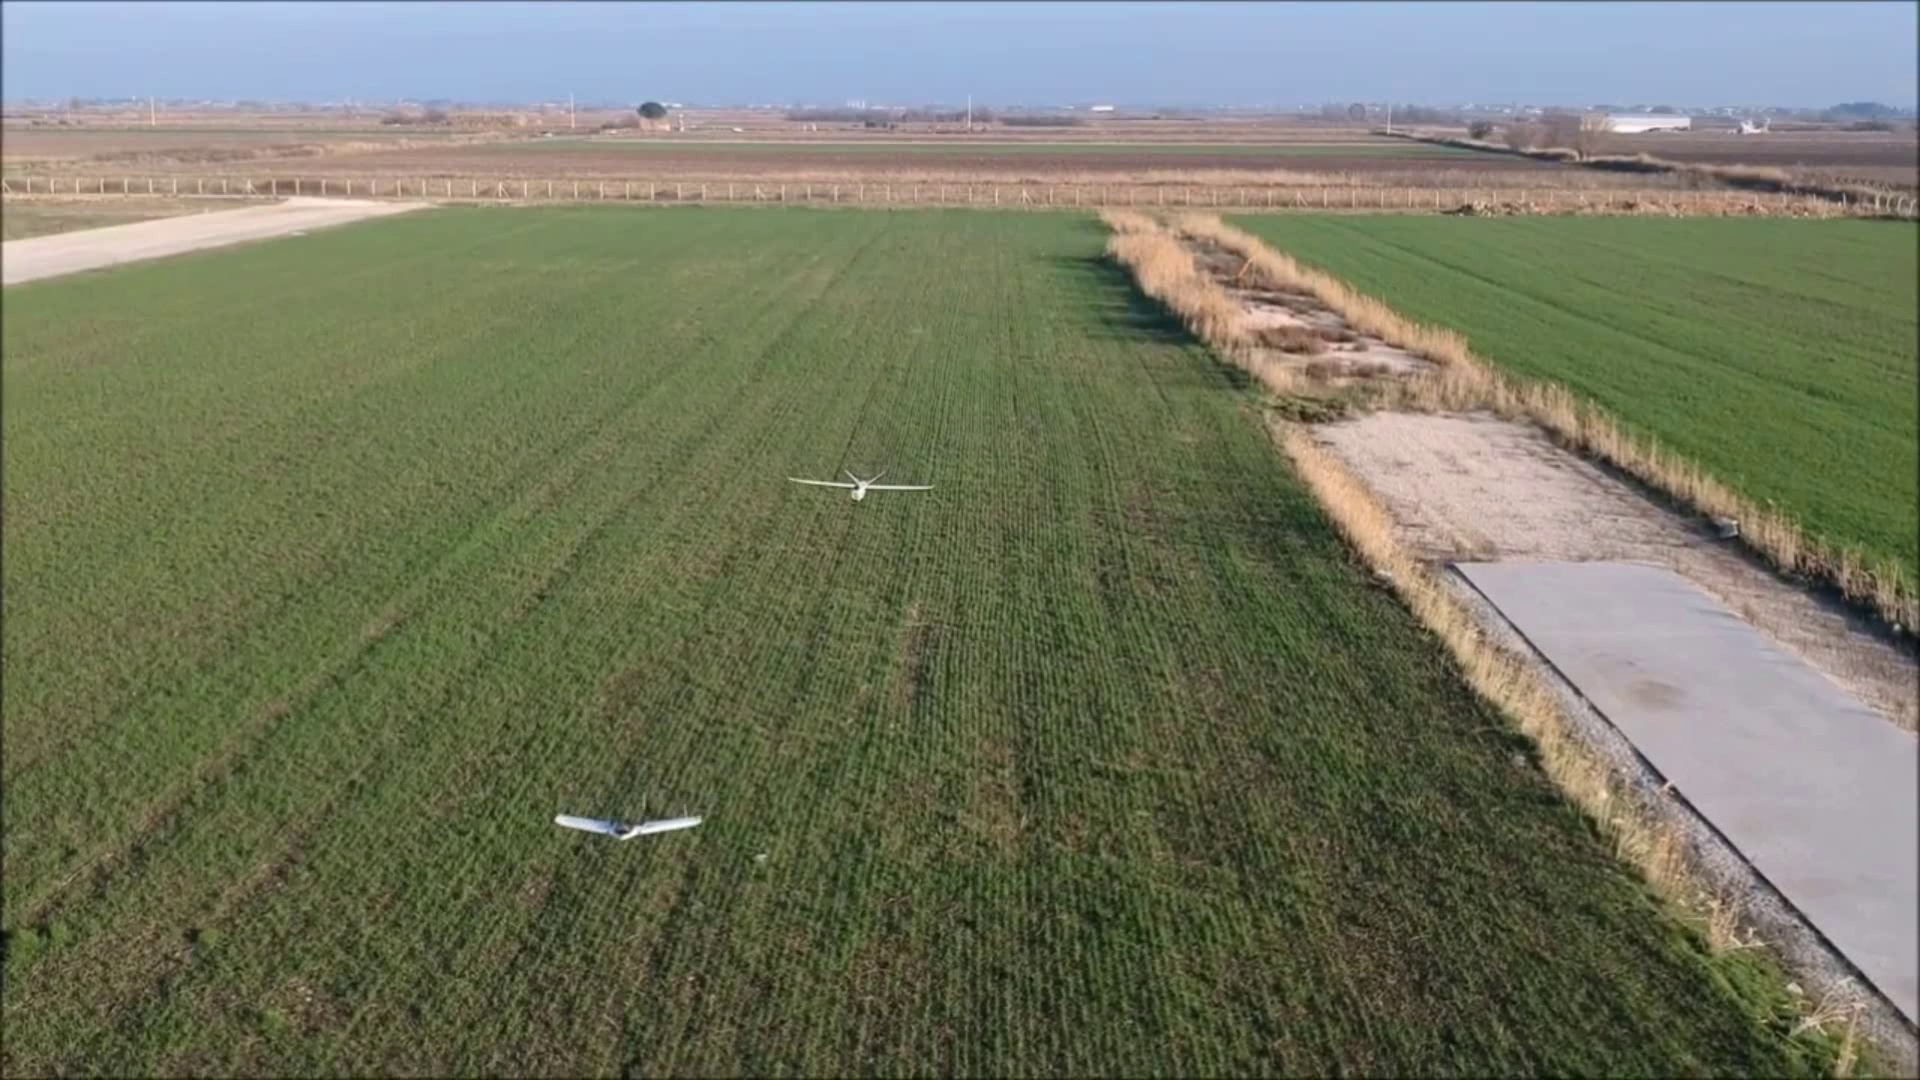airplane: (553, 808, 707, 847)
